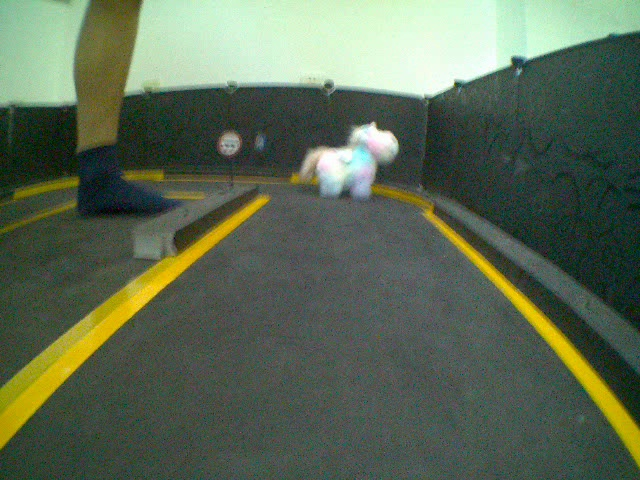unicorn: (294, 119, 398, 201)
